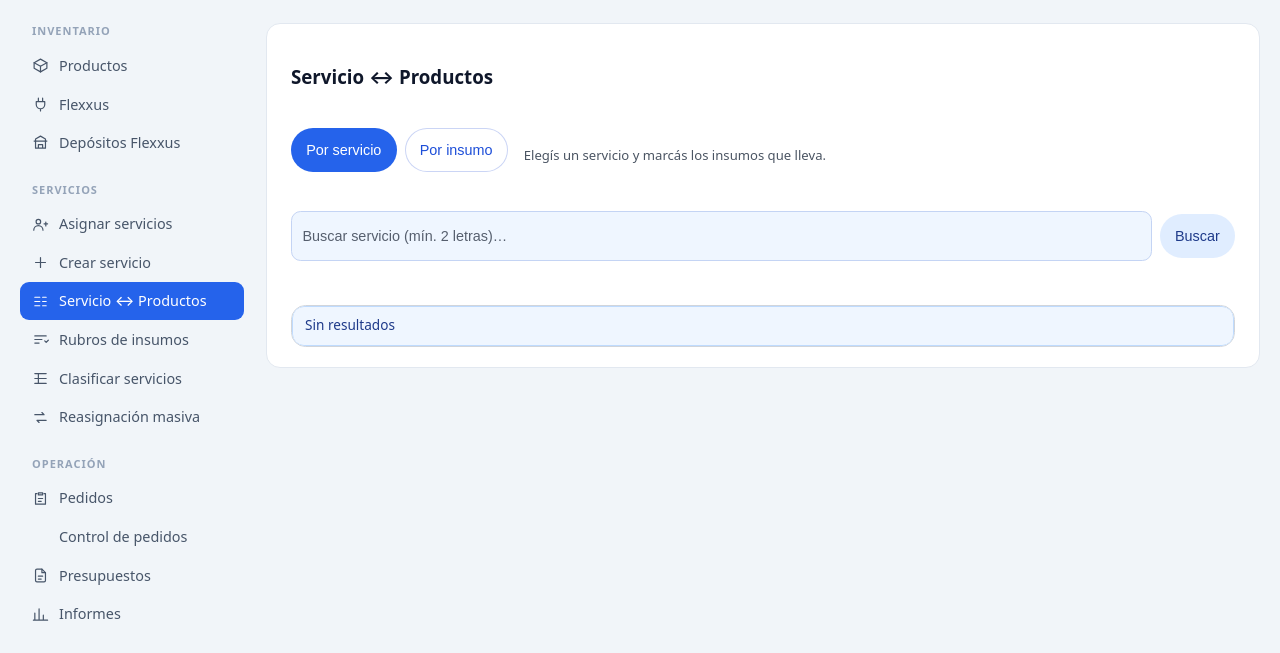
Test: Servicio ↔ Productos — por insumo › pagina de a 50 servicios
This screenshot has width=1280, height=653.
Click the tab "Por insumo": (456, 150) [404, 128, 508, 172]
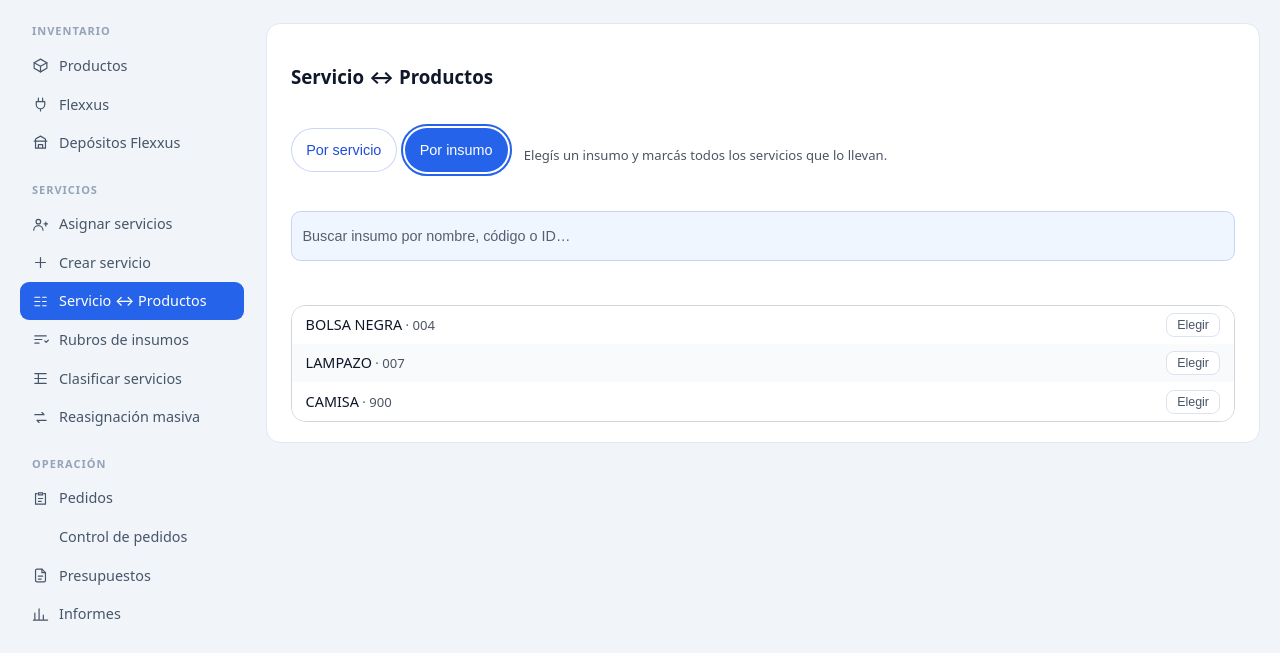
Click the button "Elegir" in the row of "004": (1193, 325) [1166, 313, 1220, 337]
(page scrolled)
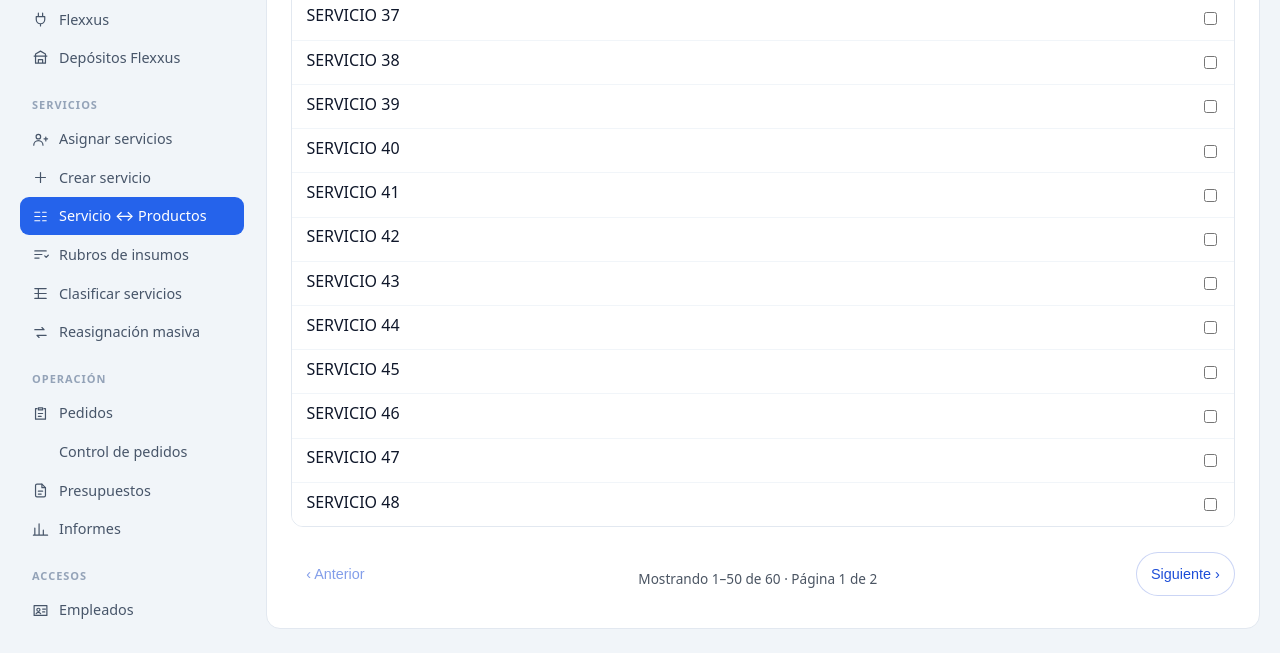
Expected: the text "Mostrando 1–50 de 60 · Página 1 de 2" is shown, [638, 570, 877, 590]
Click the button with aria-label "Página siguiente": (1185, 574) [1136, 552, 1235, 596]
(page scrolled)
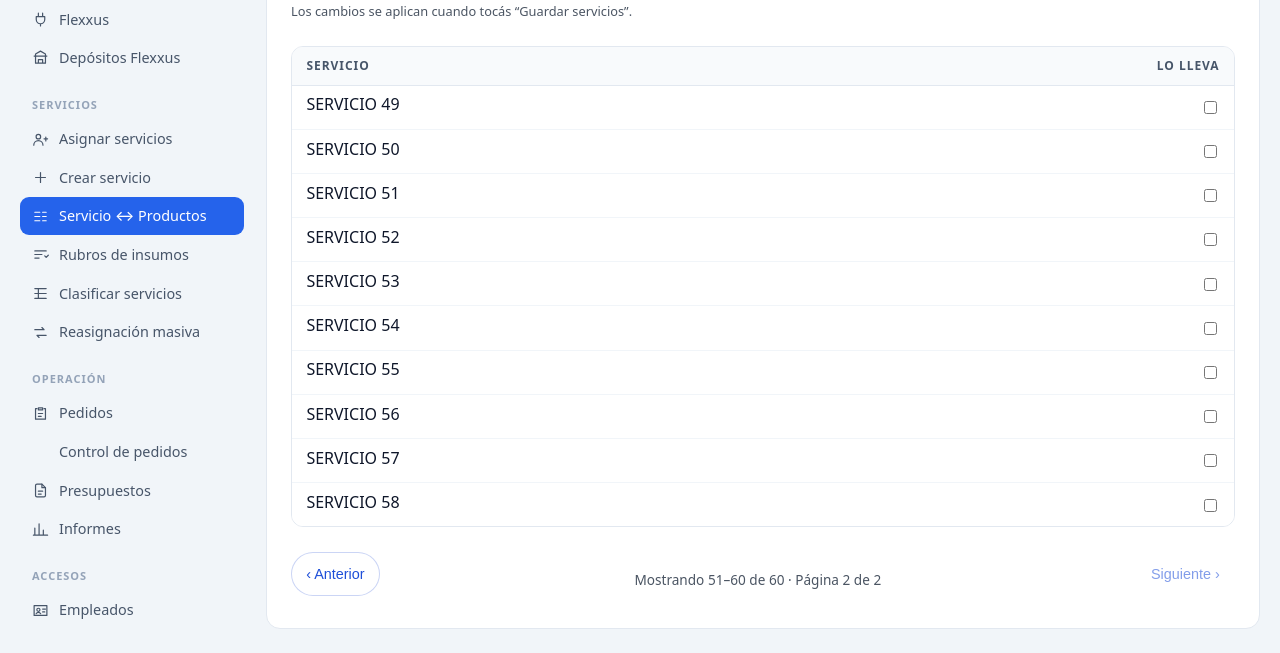
Expected: the text "Mostrando 51–60 de 60 · Página 2 de 2" is shown, [634, 570, 881, 590]
